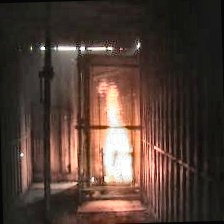fire: (93, 72, 143, 187)
